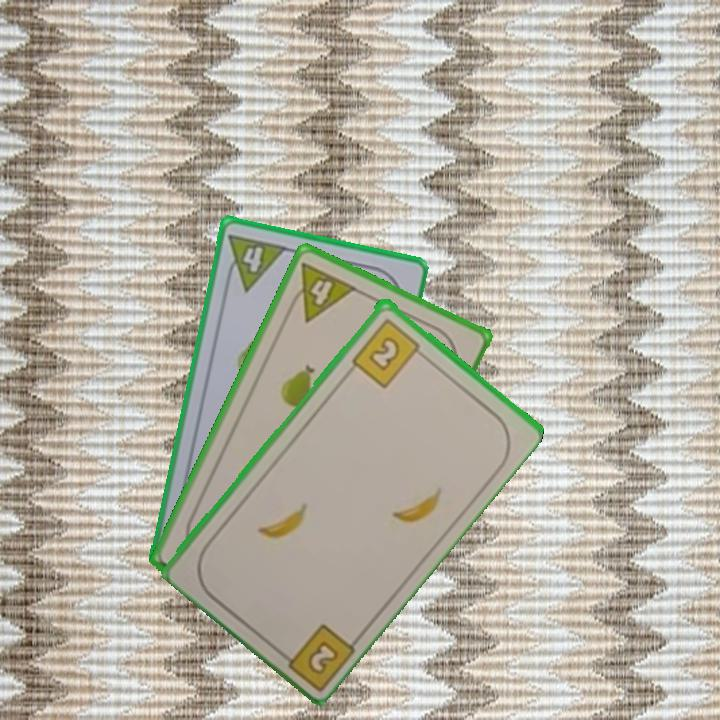2b: (348, 314, 428, 390), (273, 619, 358, 690)
4p: (282, 258, 360, 325), (220, 230, 290, 294)
